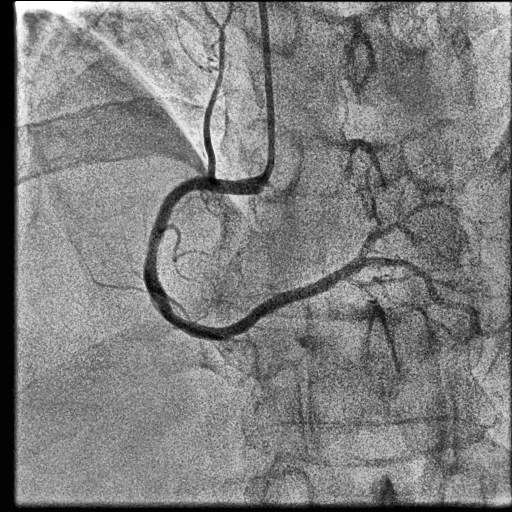pborca: (357, 222, 404, 257)
pda: (369, 257, 482, 335)
rca: (143, 178, 369, 342)
